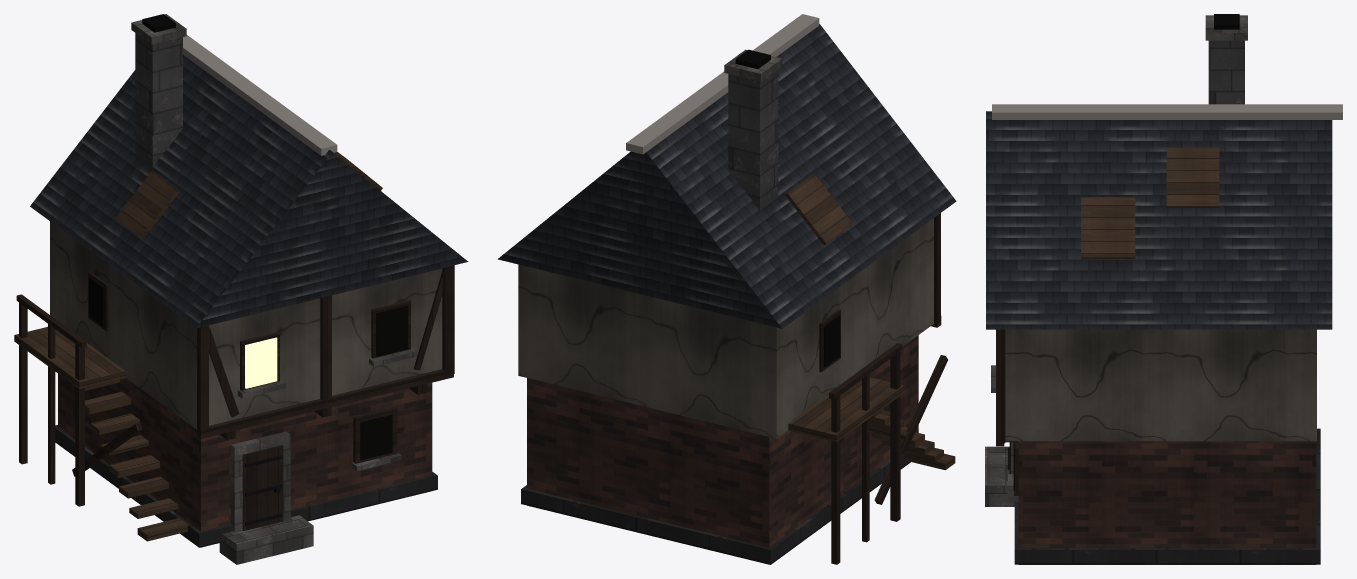
Rendered from CasaS07.gltf.
3 views of the same model, side by side, from view 1: azimuth 30°, elevation 25°; view 2: azimuth 150°, elevation 25°; view 3: azimuth 270°, elevation 25° (orthographic). The views are drawn at different scales.
Visible parts, largest first — view 1: CasaS07; view 2: CasaS07; view 3: CasaS07.
Boxes of the visible parts, box(x1,y1,x2,y2) form: CasaS07: box(14, 14, 468, 564); CasaS07: box(498, 14, 956, 564); CasaS07: box(985, 14, 1342, 564).
Size of the model in its own units: 7.7 by 10.8 by 7.49.
Materials: 12 (8 with a texture image).
